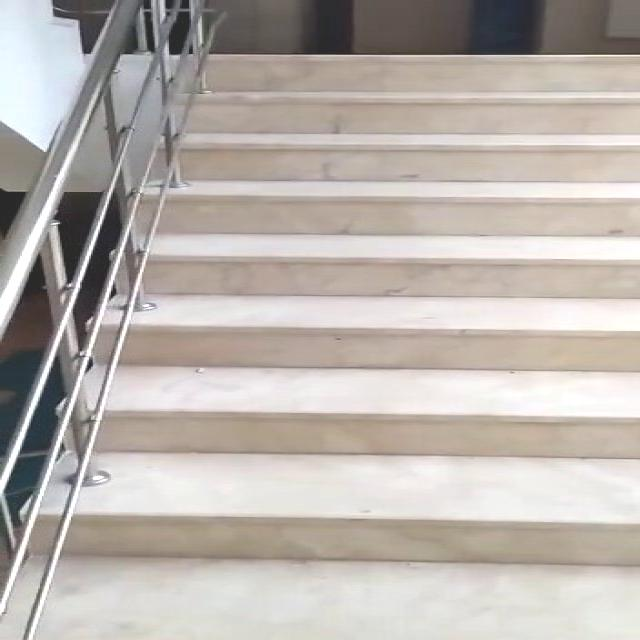stair: (84, 47, 640, 640)
